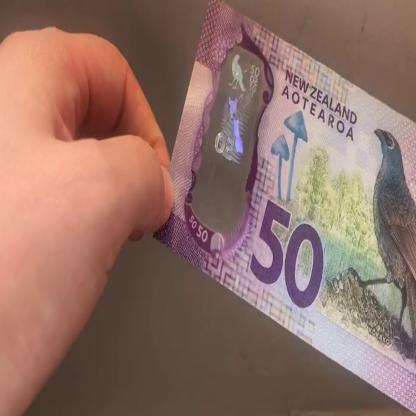50B: (202, 48, 261, 222)
